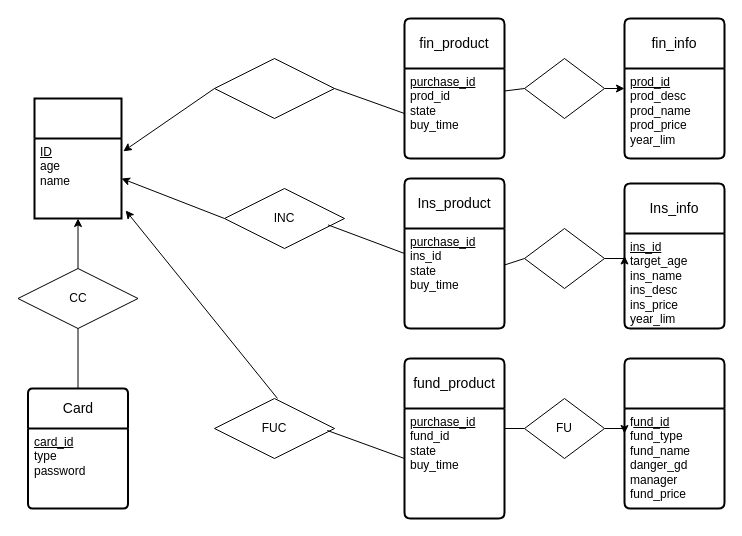
This 742x536 diagram has some shape labels left out. The box of each missing label's shape, as (x1, y1, x2, y2) in pixels:
client: (33, 97, 122, 219)
FI: (524, 58, 604, 118)
FIC: (214, 58, 334, 118)
fund_info: (623, 357, 725, 509)
IN: (524, 228, 604, 288)
